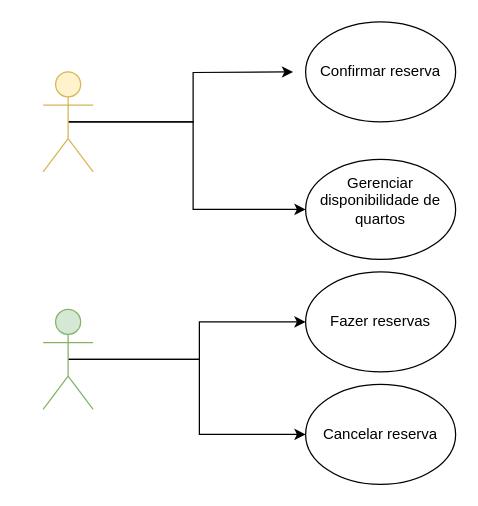
Some shapes in this 478 by 506 pixel diagram are drawn without their labels. Here are the shapes that lost their labels. From the top down, the box of each, then its label:
(42, 71, 93, 172): Recepcionista
(42, 308, 93, 409): Cliente
